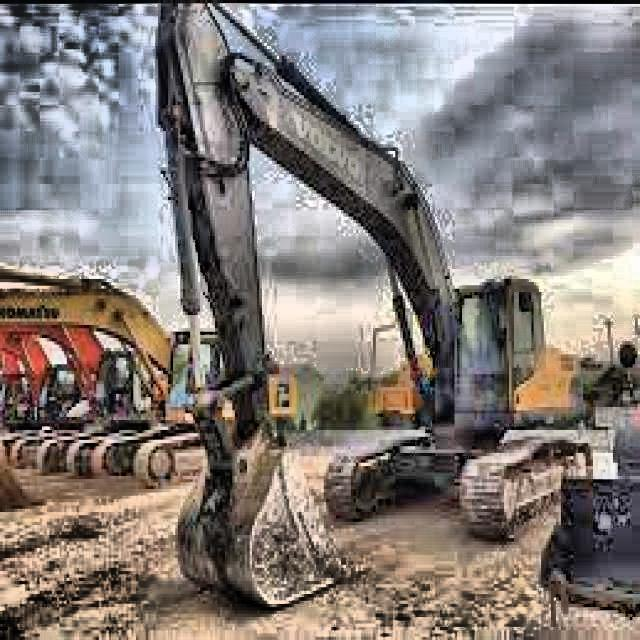bull_dozer/loader/grader: (154, 0, 592, 615), (0, 248, 218, 498), (17, 312, 166, 481), (5, 337, 80, 470), (0, 352, 30, 456)
person: (268, 374, 299, 446)
